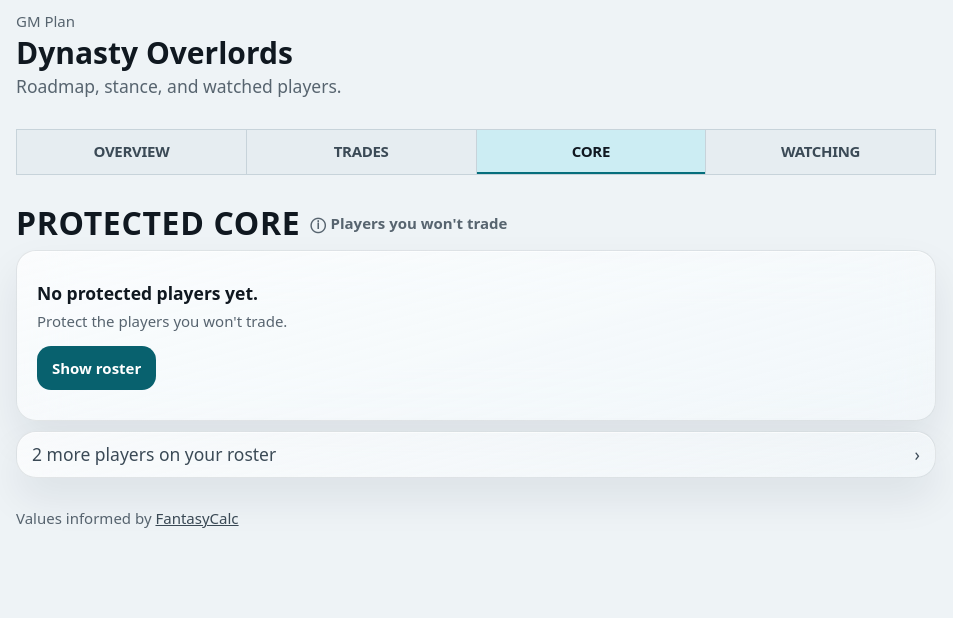
Test case: GmPlanContent › Protected Players section › adds a GM Target then marks it untouchable when protecting a player not yet tracked
This screenshot has width=953, height=618.
Click the text "2 more players on your roster" at (154, 455), box [32, 442, 276, 467]
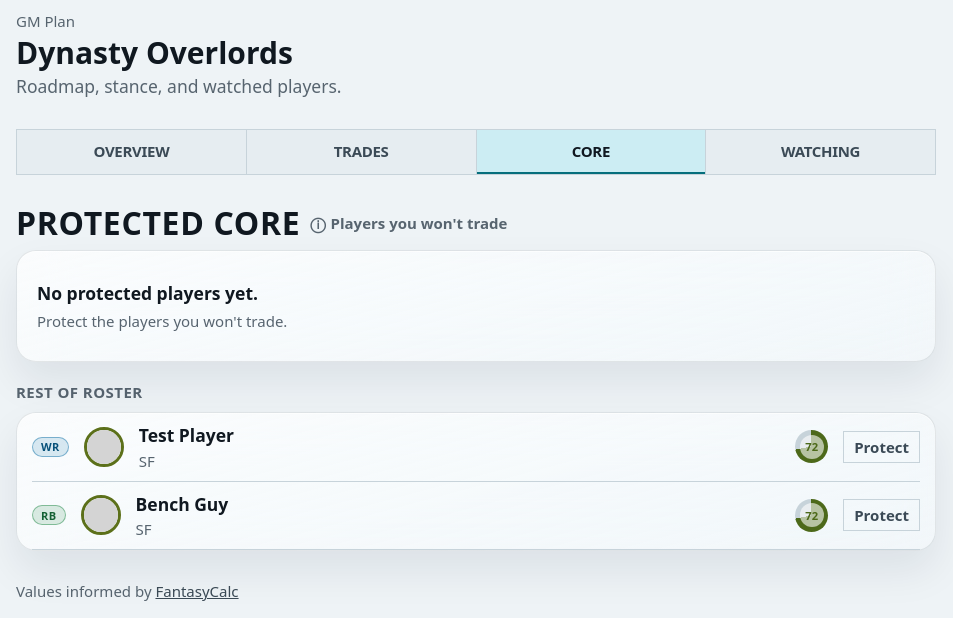
Click the 1st button "Protect" at (882, 447), box [843, 431, 920, 463]
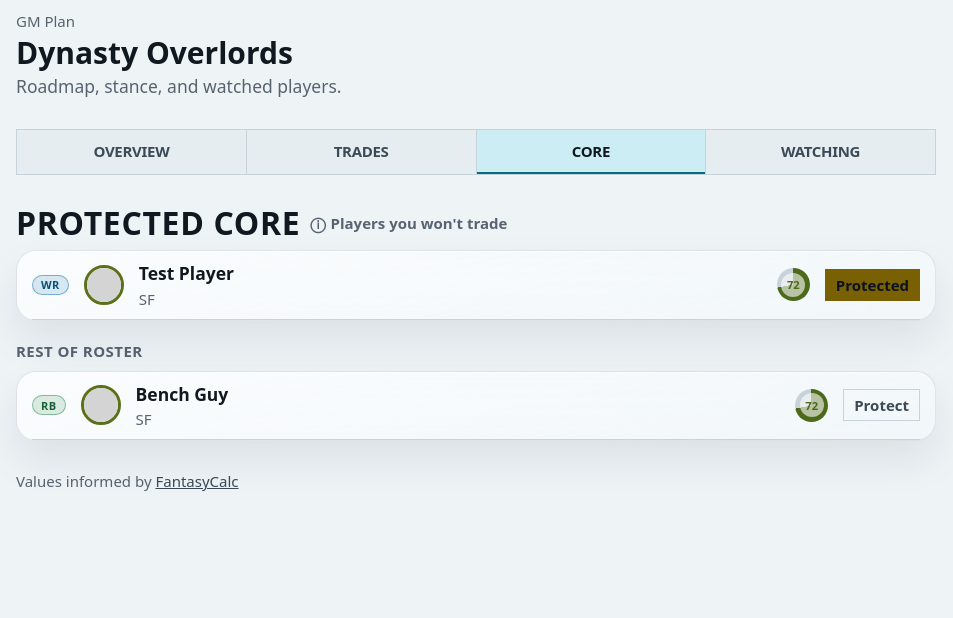
Now the button "Protected" is shown, box [825, 269, 920, 301]
